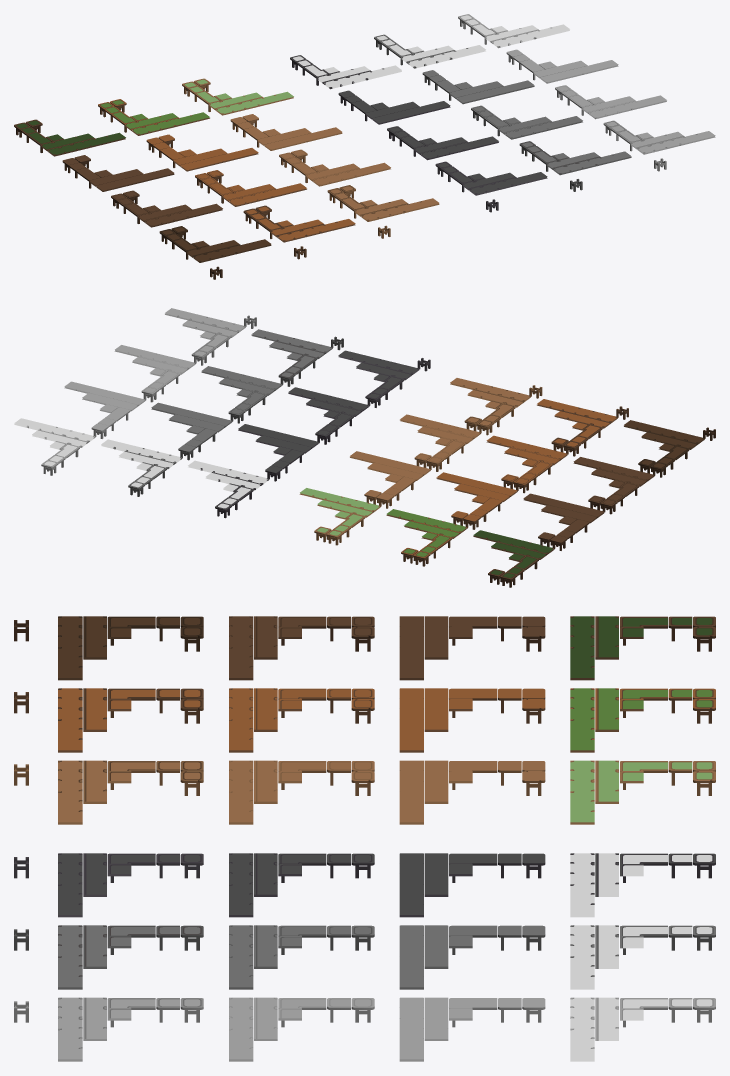
Rendered from tables.fbx.
3 renders of one model, top to bottom at view 1: azimuth 30°, elevation 25°; view 2: azimuth 150°, elevation 25°; view 3: azimuth 270°, elevation 25°, orthographic. The views are drawn at different scales.
Bounding box in the file's own units: 43 × 0.7395 × 28.78.
